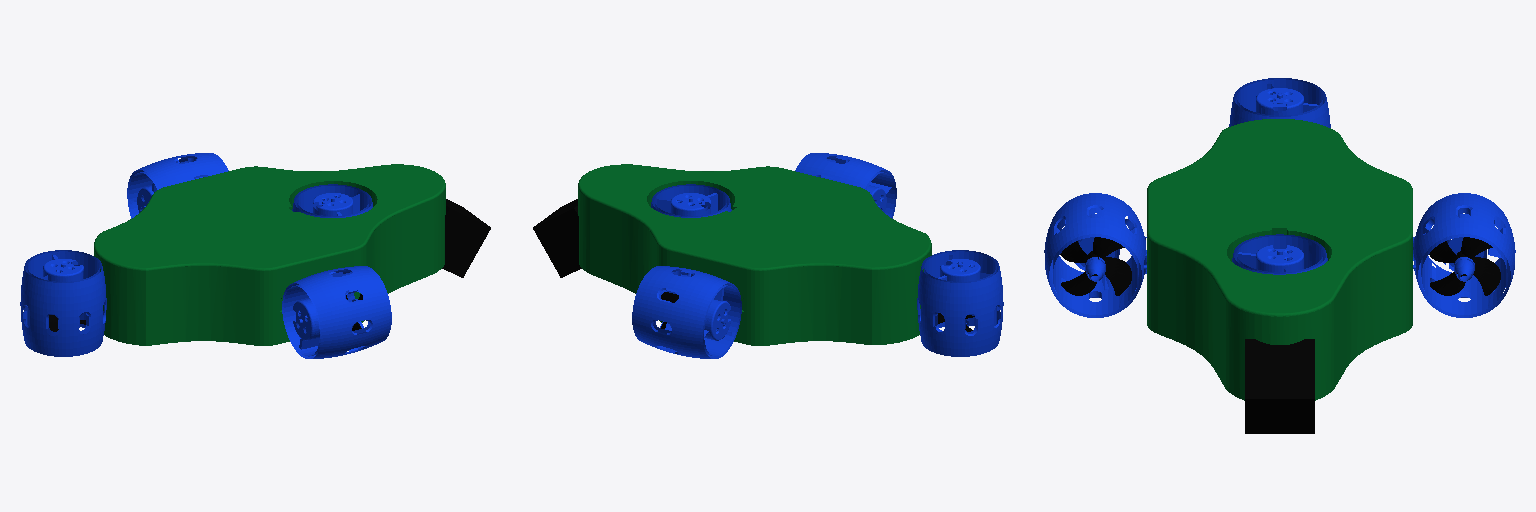
URDF robot description (underwater_turtle_robot):
<?xml version="1.0"?>
<!--
  Bio-inspired turtle robot - simulation model (URDF).
  Preserved from the original project with the following additive changes:
    * Gazebo Harmonic plugins added (4 thrusters, joint-state, odometry).
    * Camera / IMU / NavSat sensors added on new sensor links.
    * body collision hull kept as the (invisible) displacement volume used for buoyancy.
    * internal_equipment mass trimmed so the modelled weight equals the modelled
      displaced water mass (approximately neutral trim). See docs/architecture.md.

  Frame convention:  +x = forward (nose), +y = left, +z = up, base_link at body centre.
-->
<robot name="underwater_turtle_robot">

  <!-- ============================ BODY ============================ -->
  <link name="base_link">

    <visual>
      <origin xyz="-0.167832 -0.122672 -0.0365" rpy="0 0 0" />
      <geometry>
        <mesh filename="package://underwater_robot/meshes/final_body.stl"
          scale="0.001 0.001 0.001" />
      </geometry>
      <material name="body_green">
        <color rgba="0.05 0.45 0.20 1.0" />
      </material>
    </visual>

    <!--
      Invisible buoyancy / collision volume.
      Volume = 0.25 * 0.15 * 0.0413 = 1.54875e-3 m^3
      Displaced fresh-water mass at 1000 kg/m^3 = 1.54875 kg
      Total modelled dry mass below = 1.549 kg  ->  ~neutral trim.

      The hull is offset so that the centre of buoyancy sits ABOVE and in line
      with the centre of mass (COM ~= (-0.022, 0, +0.009) after URDF fixed-joint
      lumping).  A submerged, neutrally buoyant body is only passively stable
      when the centre of buoyancy is above the centre of mass; placing the hull
      at the origin made the vehicle tumble continuously.
    -->
    <collision name="body_collision">
      <origin xyz="-0.022 0 0.05" rpy="0 0 0" />
      <geometry>
        <box size="0.25 0.15 0.0413" />
      </geometry>
    </collision>

    <inertial>
      <origin xyz="0.00503 0.000006 0.01095" rpy="0 0 0" />
      <mass value="0.300" />
      <inertia
        ixx="0.0010550"
        ixy="0.00000135"
        ixz="0.00006672"
        iyy="0.0027364"
        iyz="-0.000000018"
        izz="0.0034476" />
    </inertial>

  </link>

  <!-- ==================== SENSOR LINKS ==================== -->
  <link name="camera_link">
    <visual>
      <geometry><box size="0.05 0.05 0.05" /></geometry>
      <material name="sensor_black"><color rgba="0.05 0.05 0.05 1.0" /></material>
    </visual>
    <inertial>
      <origin xyz="0 0 0" rpy="0 0 0" />
      <mass value="0.010" />
      <inertia ixx="1e-6" ixy="0" ixz="0" iyy="1e-6" iyz="0" izz="1e-6" />
    </inertial>
  </link>

  <link name="imu_link">
    <inertial>
      <origin xyz="0 0 0" rpy="0 0 0" />
      <mass value="0.005" />
      <inertia ixx="2e-7" ixy="0" ixz="0" iyy="2e-7" iyz="0" izz="2e-7" />
    </inertial>
  </link>

  <link name="gps_link">
    <inertial>
      <origin xyz="0 0 0" rpy="0 0 0" />
      <mass value="0.005" />
      <inertia ixx="2e-7" ixy="0" ixz="0" iyy="2e-7" iyz="0" izz="2e-7" />
    </inertial>
  </link>

  <!-- ======== FRONT VERTICAL THRUSTER (heave / pitch) ======== -->
  <link name="front_vertical_thruster">
    <visual>
      <geometry>
        <mesh filename="package://underwater_robot/meshes/thruster_housing.stl"
          scale="1 1 1" />
      </geometry>
      <material name="thruster_blue"><color rgba="0.1 0.3 0.9 1.0" /></material>
    </visual>
    <inertial>
      <origin xyz="0 0 0" rpy="0 0 0" />
      <mass value="0.160" />
      <inertia ixx="0.00010" ixy="0.0" ixz="0.0"
               iyy="0.00010" iyz="0.0" izz="0.00005" />
    </inertial>
  </link>

  <link name="front_vertical_propeller">
    <visual>
      <geometry>
        <mesh filename="package://underwater_robot/meshes/propeller.stl"
          scale="1 1 1" />
      </geometry>
      <material name="propeller_black"><color rgba="0.05 0.05 0.05 1.0" /></material>
    </visual>
    <inertial>
      <origin xyz="0 0 0" rpy="0 0 0" />
      <mass value="0.002" />
      <inertia ixx="0.000001" ixy="0.0" ixz="0.0"
               iyy="0.000001" iyz="0.0" izz="0.000001" />
    </inertial>
  </link>

  <joint name="front_vertical_thruster_joint" type="fixed">
    <parent link="base_link" />
    <child link="front_vertical_thruster" />
    <origin xyz="0.062172 0 0.03525" rpy="0 3.14159 1.5708" />
  </joint>

  <joint name="front_vertical_propeller_joint" type="continuous">
    <parent link="front_vertical_thruster" />
    <child link="front_vertical_propeller" />
    <origin xyz="0 0 0" rpy="0 0 0" />
    <axis xyz="0 0 1" />
  </joint>

  <!-- ======== REAR VERTICAL THRUSTER (heave / pitch) ======== -->
  <link name="rear_vertical_thruster">
    <visual>
      <geometry>
        <mesh filename="package://underwater_robot/meshes/thruster_housing.stl"
          scale="1 1 1" />
      </geometry>
      <material name="thruster_blue"><color rgba="0.1 0.3 0.9 1.0" /></material>
    </visual>
    <inertial>
      <origin xyz="0 0 0" rpy="0 0 0" />
      <mass value="0.160" />
      <inertia ixx="0.00010" ixy="0.0" ixz="0.0"
               iyy="0.00010" iyz="0.0" izz="0.00005" />
    </inertial>
  </link>

  <link name="rear_vertical_propeller">
    <visual>
      <geometry>
        <mesh filename="package://underwater_robot/meshes/propeller.stl"
          scale="1 1 1" />
      </geometry>
      <material name="propeller_black"><color rgba="0.05 0.05 0.05 1.0" /></material>
    </visual>
    <inertial>
      <origin xyz="0 0 0" rpy="0 0 0" />
      <mass value="0.002" />
      <inertia ixx="0.000001" ixy="0.0" ixz="0.0"
               iyy="0.000001" iyz="0.0" izz="0.000001" />
    </inertial>
  </link>

  <joint name="rear_vertical_thruster_joint" type="fixed">
    <parent link="base_link" />
    <child link="rear_vertical_thruster" />
    <origin xyz="-0.205 0 0.03525" rpy="0 3.14159 -1.5708" />
  </joint>

  <joint name="rear_vertical_propeller_joint" type="continuous">
    <parent link="rear_vertical_thruster" />
    <child link="rear_vertical_propeller" />
    <origin xyz="0 0 0" rpy="0 0 0" />
    <axis xyz="0 0 1" />
  </joint>

  <!-- ======== LEFT HORIZONTAL THRUSTER (surge / yaw) ======== -->
  <link name="left_horizontal_thruster">
    <visual>
      <geometry>
        <mesh filename="package://underwater_robot/meshes/thruster_housing.stl"
          scale="1 1 1" />
      </geometry>
      <material name="thruster_blue"><color rgba="0.1 0.3 0.9 1.0" /></material>
    </visual>
    <inertial>
      <origin xyz="0 0 0" rpy="0 0 0" />
      <mass value="0.160" />
      <inertia ixx="0.00010" ixy="0.0" ixz="0.0"
               iyy="0.00010" iyz="0.0" izz="0.00005" />
    </inertial>
  </link>

  <link name="left_horizontal_propeller">
    <visual>
      <geometry>
        <mesh filename="package://underwater_robot/meshes/propeller.stl"
          scale="1 1 1" />
      </geometry>
      <material name="propeller_black"><color rgba="0.05 0.05 0.05 1.0" /></material>
    </visual>
    <inertial>
      <origin xyz="0 0 0" rpy="0 0 0" />
      <mass value="0.002" />
      <inertia ixx="0.000001" ixy="0.0" ixz="0.0"
               iyy="0.000001" iyz="0.0" izz="0.000001" />
    </inertial>
  </link>

  <joint name="left_horizontal_thruster_joint" type="fixed">
    <parent link="base_link" />
    <child link="left_horizontal_thruster" />
    <origin xyz="-0.045752 0.1330 0" rpy="3.14159 -1.5708 0" />
  </joint>

  <joint name="left_horizontal_propeller_joint" type="continuous">
    <parent link="left_horizontal_thruster" />
    <child link="left_horizontal_propeller" />
    <origin xyz="0 0 0" rpy="0 0 0" />
    <axis xyz="0 0 1" />
  </joint>

  <!-- ======== RIGHT HORIZONTAL THRUSTER (surge / yaw) ======== -->
  <link name="right_horizontal_thruster">
    <visual>
      <geometry>
        <mesh filename="package://underwater_robot/meshes/thruster_housing.stl"
          scale="1 1 1" />
      </geometry>
      <material name="thruster_blue"><color rgba="0.1 0.3 0.9 1.0" /></material>
    </visual>
    <inertial>
      <origin xyz="0 0 0" rpy="0 0 0" />
      <mass value="0.160" />
      <inertia ixx="0.00010" ixy="0.0" ixz="0.0"
               iyy="0.00010" iyz="0.0" izz="0.00005" />
    </inertial>
  </link>

  <link name="right_horizontal_propeller">
    <visual>
      <geometry>
        <mesh filename="package://underwater_robot/meshes/propeller.stl"
          scale="1 1 1" />
      </geometry>
      <material name="propeller_black"><color rgba="0.05 0.05 0.05 1.0" /></material>
    </visual>
    <inertial>
      <origin xyz="0 0 0" rpy="0 0 0" />
      <mass value="0.002" />
      <inertia ixx="0.000001" ixy="0.0" ixz="0.0"
               iyy="0.000001" iyz="0.0" izz="0.000001" />
    </inertial>
  </link>

  <joint name="right_horizontal_thruster_joint" type="fixed">
    <parent link="base_link" />
    <child link="right_horizontal_thruster" />
    <origin xyz="-0.045752 -0.1330 0" rpy="0 1.5708 0" />
  </joint>

  <joint name="right_horizontal_propeller_joint" type="continuous">
    <parent link="right_horizontal_thruster" />
    <child link="right_horizontal_propeller" />
    <origin xyz="0 0 0" rpy="0 0 0" />
    <axis xyz="0 0 1" />
  </joint>

  <!-- ============ INTERNAL EQUIPMENT (ballast / electronics) ============ -->
  <!--
    mass 0.579 kg = original 0.552 kg + ~0.027 kg trim ballast.
    Total modelled mass = 0.300(base) + 0.579(equipment) + 4*0.160(thrusters)
      + 4*0.002(propellers) + 0.010(camera) + 0.005(imu) + 0.005(gps) = 1.547 kg
    Displaced water mass = 1.54875 kg  ->  slightly POSITIVE trim (+0.00175 kg):
    a stationary, unpowered vehicle rises very slowly (~cm/s) instead of
    settling on the seafloor.  The mission depth-hold keeps it submerged.
  -->
  <link name="internal_equipment">
    <inertial>
      <origin xyz="0 0 0" rpy="0 0 0" />
      <mass value="0.579" />
      <inertia ixx="0.0010" ixy="0.0" ixz="0.0"
               iyy="0.0010" iyz="0.0" izz="0.0010" />
    </inertial>
  </link>

  <joint name="internal_equipment_joint" type="fixed">
    <parent link="base_link" />
    <child link="internal_equipment" />
    <origin xyz="0 0 0" rpy="0 0 0" />
  </joint>

  <!-- ==================== SENSOR MOUNTS ==================== -->
  <!-- Camera: front of the body, pitched ~35 deg down to view the seafloor ahead -->
  <joint name="camera_joint" type="fixed">
    <parent link="base_link" />
    <child link="camera_link" />
    <origin xyz="0.17 0 -0.02" rpy="0 0.6 0" />
  </joint>

  <joint name="imu_joint" type="fixed">
    <parent link="base_link" />
    <child link="imu_link" />
    <origin xyz="0 0 0" rpy="0 0 0" />
  </joint>

  <joint name="gps_joint" type="fixed">
    <parent link="base_link" />
    <child link="gps_link" />
    <origin xyz="-0.10 0 0.05" rpy="0 0 0" />
  </joint>

  <!-- ==================== GAZEBO SIMULATION ==================== -->
  <gazebo>
    <self_collide>false</self_collide>
  </gazebo>

  <!--
    Hydrodynamic drag applied with the native Fossen-style
    gz::sim::systems::Hydrodynamics plugin (linear + quadratic drag terms).
    This REPLACES the earlier <velocity_decay> element, whose damping measured
    ~10x weaker than documented (the vehicle reached ~1.2 m/s under a modest
    normalised surge command and rammed the tank wall), and which gave the
    contact solver NaN AABBs during fast corner contact.

    Values (SNAME convention, negative = damping):
      linear  xU/yV/zW  = -2.0 N/(m/s)   -> surge cruise v [m/s] ~= 2 x
                                           normalised surge near rest;
      quadratic xUabsU/yVabsV/zWabsW = -0.8 N/(m/s)^2
                                           -> soft cap: full surge (4 N)
                                           cruises at ~1.2 m/s;
      angular kP/mQ/nR = -0.5 N.m.s/rad  -> gentle turn damping.

    PROVISIONAL simulation tuning, not a validated hydrodynamic model.
    See docs/architecture.md.
  -->
  <gazebo>
    <plugin filename="gz-sim-hydrodynamics-system"
            name="gz::sim::systems::Hydrodynamics">
      <link_name>base_link</link_name>
      <xU>-2.0</xU>
      <yV>-2.0</yV>
      <zW>-2.0</zW>
      <kP>-0.5</kP>
      <mQ>-0.5</mQ>
      <nR>-0.5</nR>
      <xUabsU>-0.8</xUabsU>
      <yVabsV>-0.8</yVabsV>
      <zWabsW>-0.8</zWabsW>
    </plugin>
  </gazebo>

  <!--
    Thruster plugins (Gazebo Harmonic native gz::sim::systems::Thruster).
    Command = thrust in Newtons (ForceCmd mode, default).
    velocity_control=true  -> propeller joint velocity is written directly
    (no PID tuning required); applied force is still the commanded thrust.
    Limits below are PROVISIONAL simulation limits, not real motor data.
    Command topics (ROS side, see config/bridge.yaml):
      /underwater_robot/thruster/front_vertical/cmd_thrust
      /underwater_robot/thruster/rear_vertical/cmd_thrust
      /underwater_robot/thruster/left_horizontal/cmd_thrust
      /underwater_robot/thruster/right_horizontal/cmd_thrust
  -->
  <gazebo>
    <plugin filename="gz-sim-thruster-system"
            name="gz::sim::systems::Thruster">
      <namespace>underwater_robot</namespace>
      <joint_name>front_vertical_propeller_joint</joint_name>
      <topic>thruster/front_vertical/cmd_thrust</topic>
      <fluid_density>1000</fluid_density>
      <propeller_diameter>0.053</propeller_diameter>
      <thrust_coefficient>0.005</thrust_coefficient>
      <min_thrust_cmd>-2.0</min_thrust_cmd>
      <max_thrust_cmd>2.0</max_thrust_cmd>
      <velocity_control>true</velocity_control>
    </plugin>
  </gazebo>
  <gazebo>
    <plugin filename="gz-sim-thruster-system"
            name="gz::sim::systems::Thruster">
      <namespace>underwater_robot</namespace>
      <joint_name>rear_vertical_propeller_joint</joint_name>
      <topic>thruster/rear_vertical/cmd_thrust</topic>
      <fluid_density>1000</fluid_density>
      <propeller_diameter>0.053</propeller_diameter>
      <thrust_coefficient>0.005</thrust_coefficient>
      <min_thrust_cmd>-2.0</min_thrust_cmd>
      <max_thrust_cmd>2.0</max_thrust_cmd>
      <velocity_control>true</velocity_control>
    </plugin>
  </gazebo>
  <gazebo>
    <plugin filename="gz-sim-thruster-system"
            name="gz::sim::systems::Thruster">
      <namespace>underwater_robot</namespace>
      <joint_name>left_horizontal_propeller_joint</joint_name>
      <topic>thruster/left_horizontal/cmd_thrust</topic>
      <fluid_density>1000</fluid_density>
      <propeller_diameter>0.053</propeller_diameter>
      <thrust_coefficient>0.005</thrust_coefficient>
      <min_thrust_cmd>-2.0</min_thrust_cmd>
      <max_thrust_cmd>2.0</max_thrust_cmd>
      <velocity_control>true</velocity_control>
    </plugin>
  </gazebo>
  <gazebo>
    <plugin filename="gz-sim-thruster-system"
            name="gz::sim::systems::Thruster">
      <namespace>underwater_robot</namespace>
      <joint_name>right_horizontal_propeller_joint</joint_name>
      <topic>thruster/right_horizontal/cmd_thrust</topic>
      <fluid_density>1000</fluid_density>
      <propeller_diameter>0.053</propeller_diameter>
      <thrust_coefficient>0.005</thrust_coefficient>
      <min_thrust_cmd>-2.0</min_thrust_cmd>
      <max_thrust_cmd>2.0</max_thrust_cmd>
      <velocity_control>true</velocity_control>
    </plugin>
  </gazebo>

  <!-- Joint state feedback from the propeller joints -->
  <gazebo>
    <plugin filename="gz-sim-joint-state-publisher-system"
            name="gz::sim::systems::JointStatePublisher">
      <topic>joint_states</topic>
    </plugin>
  </gazebo>

  <!-- Odometry (ground-truth pose + twist) for local navigation -->
  <gazebo>
    <plugin filename="gz-sim-odometry-publisher-system"
            name="gz::sim::systems::OdometryPublisher">
      <odom_frame>odom</odom_frame>
      <robot_base_frame>base_link</robot_base_frame>
      <dimensions>3</dimensions>
      <odom_topic>odometry</odom_topic>
      <tf_topic>tf</tf_topic>
    </plugin>
  </gazebo>

  <!-- Camera sensor -->
  <gazebo reference="camera_link">
    <sensor name="camera" type="camera">
      <always_on>1</always_on>
      <update_rate>10</update_rate>
      <visualize>true</visualize>
      <topic>camera</topic>
      <gz_frame_id>camera_link</gz_frame_id>
      <camera name="camera">
        <horizontal_fov>1.04719755</horizontal_fov>
        <image>
          <width>640</width>
          <height>480</height>
          <format>R8G8B8</format>
        </image>
        <clip>
          <near>0.05</near>
          <far>100.0</far>
        </clip>
      </camera>
    </sensor>
  </gazebo>

  <!-- IMU sensor -->
  <gazebo reference="imu_link">
    <sensor name="imu_sensor" type="imu">
      <always_on>1</always_on>
      <update_rate>100</update_rate>
      <topic>imu</topic>
      <gz_frame_id>imu_link</gz_frame_id>
      <imu>
        <angular_velocity>
          <x><noise type="gaussian"><mean>0.0</mean><stddev>0.0002</stddev></noise></x>
          <y><noise type="gaussian"><mean>0.0</mean><stddev>0.0002</stddev></noise></y>
          <z><noise type="gaussian"><mean>0.0</mean><stddev>0.0002</stddev></noise></z>
        </angular_velocity>
        <linear_acceleration>
          <x><noise type="gaussian"><mean>0.0</mean><stddev>0.0017</stddev></noise></x>
          <y><noise type="gaussian"><mean>0.0</mean><stddev>0.0017</stddev></noise></y>
          <z><noise type="gaussian"><mean>0.0</mean><stddev>0.0017</stddev></noise></z>
        </linear_acceleration>
      </imu>
    </sensor>
  </gazebo>

  <!-- GPS (NavSat) sensor. NOTE: only physically meaningful at the surface.
       The gps_adapter node marks fixes INVALID while submerged. -->
  <gazebo reference="gps_link">
    <sensor name="navsat" type="navsat">
      <always_on>1</always_on>
      <update_rate>5</update_rate>
      <topic>navsat</topic>
      <gz_frame_id>gps_link</gz_frame_id>
    </sensor>
  </gazebo>

</robot>

--- Facts derived from the render (not from the file) ---
Views: 3 orthographic renders of the robot side by side, from view 1: azimuth 30°, elevation 25°; view 2: azimuth 150°, elevation 25°; view 3: azimuth 270°, elevation 25°.
Model underwater_turtle_robot with 13 links and 12 joints (4 continuous, 8 fixed), rooted at base_link, posed every joint at zero.
Links seen in each view (by area): view 1: base_link, right_horizontal_thruster, rear_vertical_thruster, left_horizontal_thruster, camera_link, front_vertical_thruster; view 2: base_link, rear_vertical_thruster, left_horizontal_thruster, right_horizontal_thruster, camera_link, front_vertical_thruster; view 3: base_link, left_horizontal_thruster, right_horizontal_thruster, camera_link, rear_vertical_thruster, front_vertical_thruster, left_horizontal_propeller, right_horizontal_propeller.
Boxes of the visible links, x1,y1,x2,y2 form: base_link: (94, 164, 445, 345); right_horizontal_thruster: (282, 266, 391, 358); rear_vertical_thruster: (20, 250, 106, 356); left_horizontal_thruster: (127, 153, 228, 218); camera_link: (442, 199, 490, 277); front_vertical_thruster: (292, 184, 372, 217); base_link: (578, 164, 931, 345); rear_vertical_thruster: (917, 250, 1003, 356); left_horizontal_thruster: (632, 266, 741, 358); right_horizontal_thruster: (795, 153, 896, 218); camera_link: (533, 199, 581, 277); front_vertical_thruster: (651, 184, 731, 217); base_link: (1147, 119, 1412, 400); left_horizontal_thruster: (1413, 193, 1515, 317); right_horizontal_thruster: (1044, 193, 1146, 317); camera_link: (1245, 339, 1314, 433); rear_vertical_thruster: (1229, 78, 1330, 127); front_vertical_thruster: (1232, 234, 1327, 274); left_horizontal_propeller: (1429, 237, 1500, 295); right_horizontal_propeller: (1060, 237, 1131, 295).
Size in the robot's own frame: 0.4466 by 0.3397 by 0.0925 metres.
9 mesh visuals loaded from 3 distinct referenced files (1 binary STL, 2 ASCII STL).
